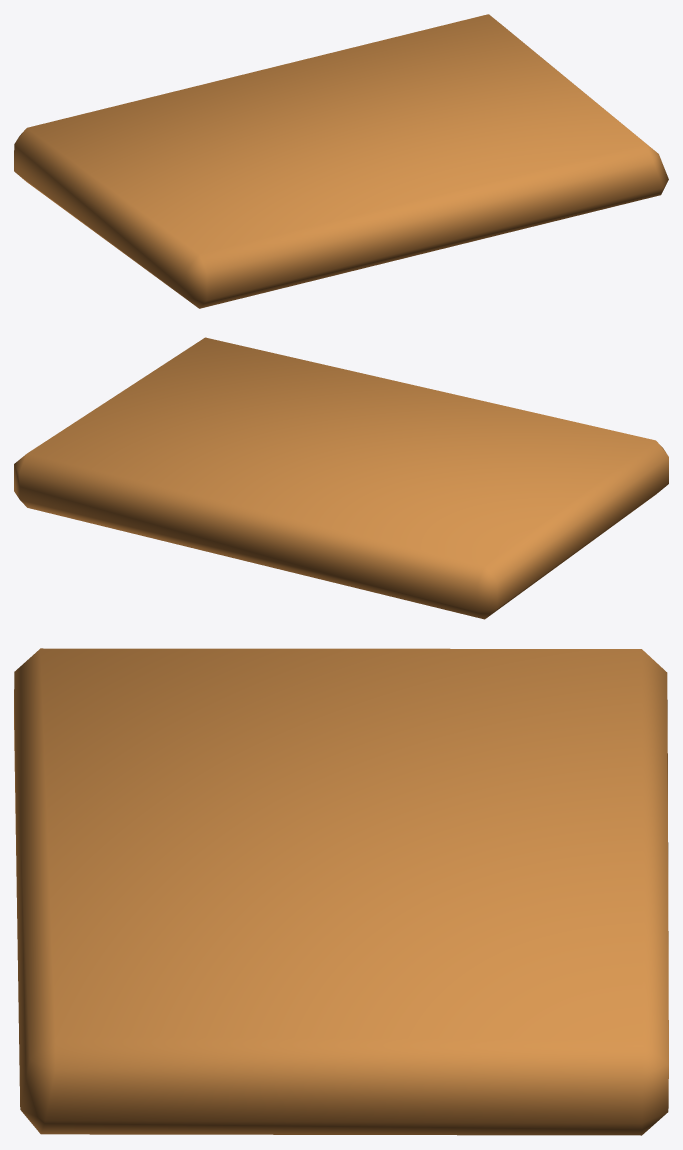
File: slab_b_lo.glb
3 views of the same model, one above another, from view 1: azimuth 30°, elevation 25°; view 2: azimuth 150°, elevation 25°; view 3: azimuth 270°, elevation 25° (orthographic). The views are drawn at different scales.
Visible parts, largest first — view 1: slab_b_lo; view 2: slab_b_lo; view 3: slab_b_lo.
Boxes of the visible parts, x1=… form: slab_b_lo: x1=14, y1=14, x2=668, y2=308; slab_b_lo: x1=14, y1=337, x2=668, y2=619; slab_b_lo: x1=14, y1=648, x2=668, y2=1135.
Bounding box in the file's own units: 1.5 × 0.1624 × 1.
